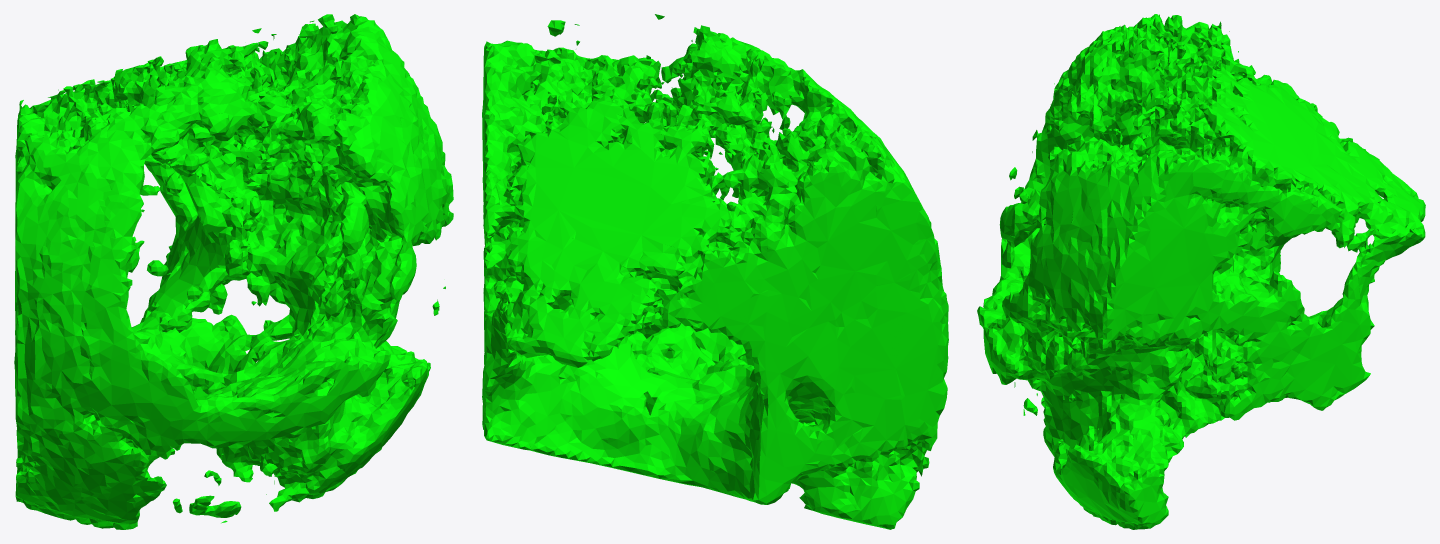
The model's file is B939XXXX-1_base_27.obj.
3 views of the same model, side by side, from view 1: azimuth 30°, elevation 25°; view 2: azimuth 150°, elevation 25°; view 3: azimuth 270°, elevation 25° (orthographic). The views are drawn at different scales.
Parts seen in each view (by area): view 1: 27_base; view 2: 27_base; view 3: 27_base.
Part boxes in pixels (x1,y1,x2,y2): 27_base: [14, 14, 453, 529]; 27_base: [482, 14, 948, 529]; 27_base: [977, 14, 1425, 529].
Size of the model in its own units: 219 by 218 by 205.
